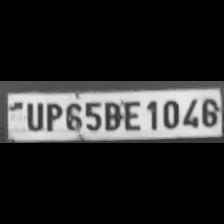0: (158, 97, 180, 129)
1: (142, 98, 160, 130)
4: (180, 96, 200, 128)
5: (82, 99, 102, 130)
6: (62, 101, 82, 131), (200, 96, 218, 128)
B: (102, 99, 120, 131)
E: (120, 99, 142, 131)
P: (42, 100, 62, 132)
U: (22, 99, 44, 130)
